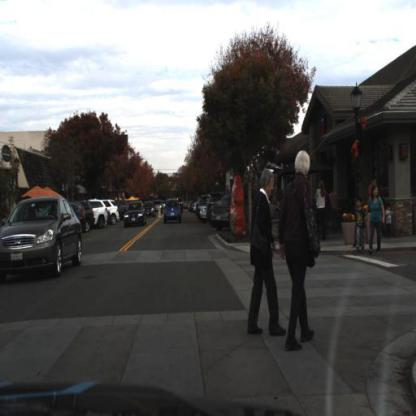car: (1, 195, 85, 276), (210, 192, 237, 232), (88, 198, 111, 232), (162, 196, 184, 227), (121, 202, 146, 228)
pedestrian: (278, 141, 320, 355), (249, 166, 289, 355), (367, 184, 388, 254), (352, 199, 367, 252)
